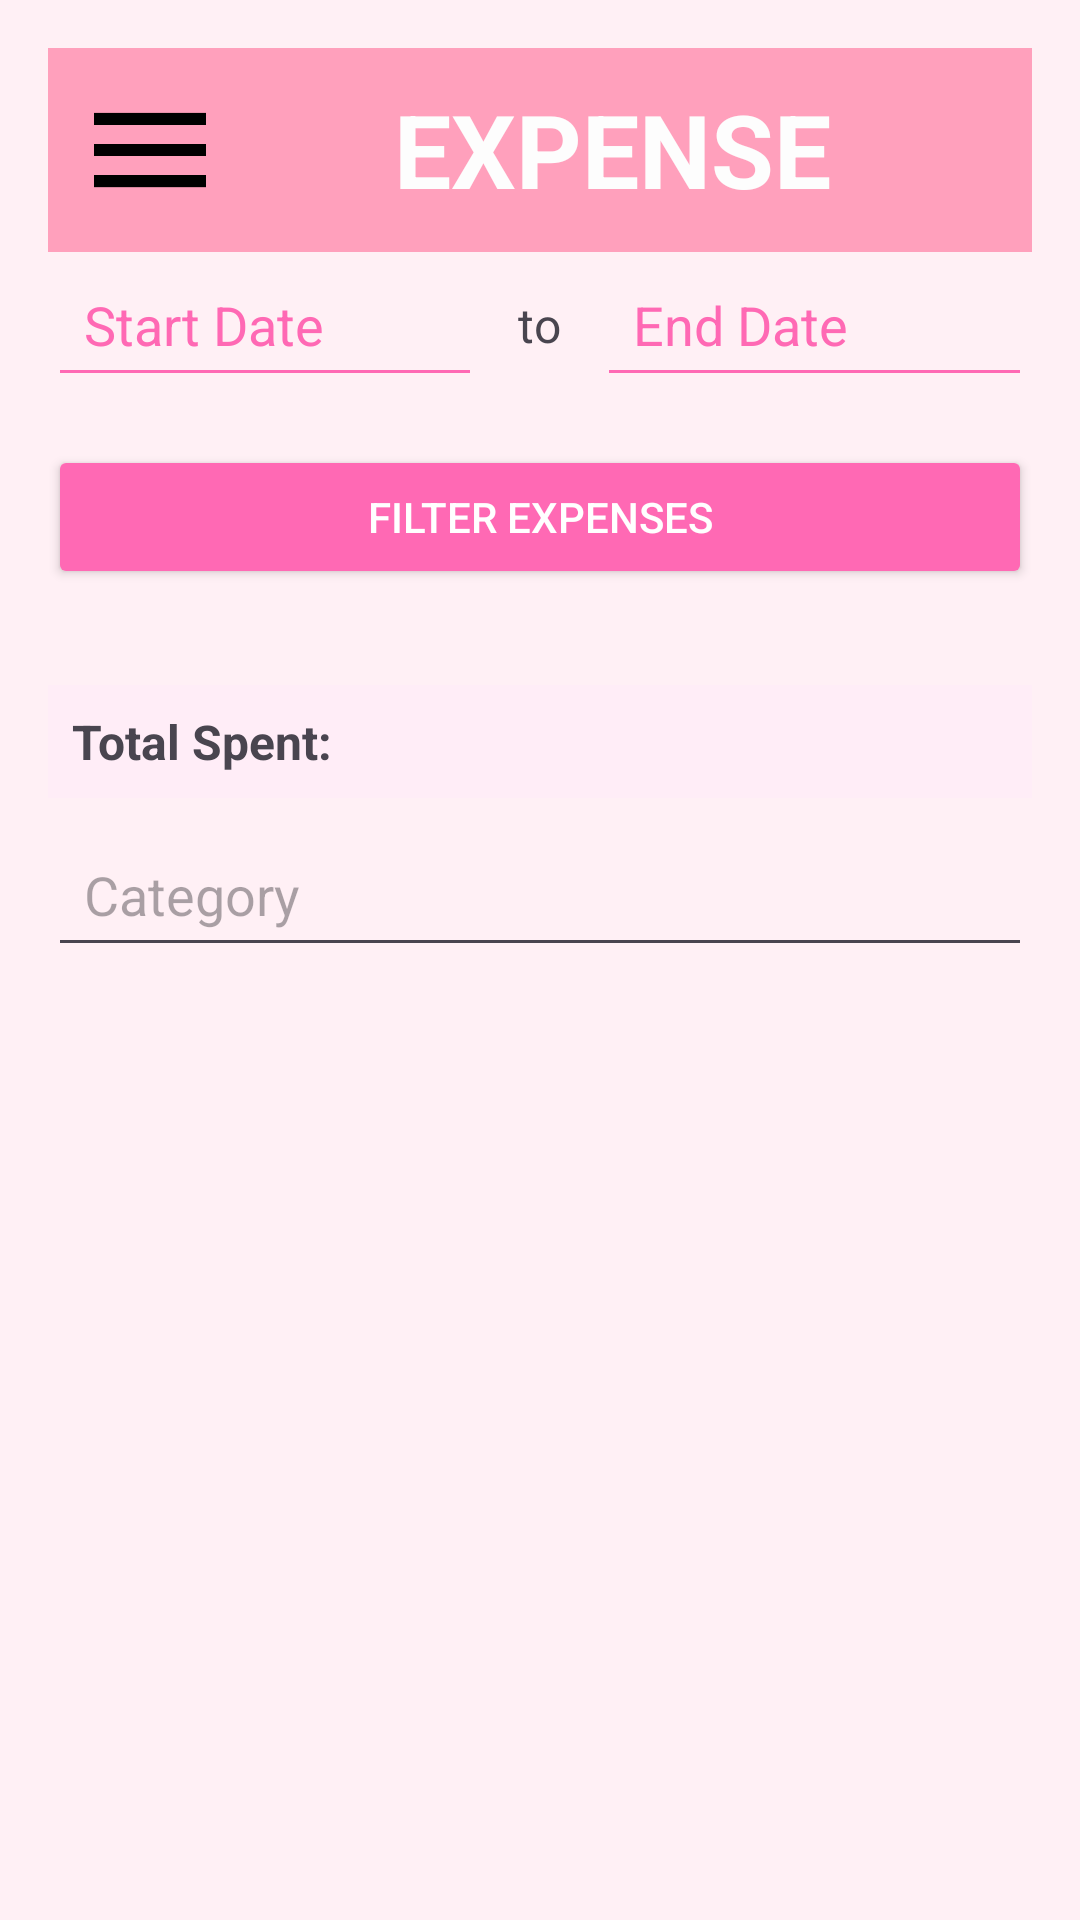

Point at icon controls on the screen. Image size 1080×1920, points as (x,y).
Menu: (150,150)
